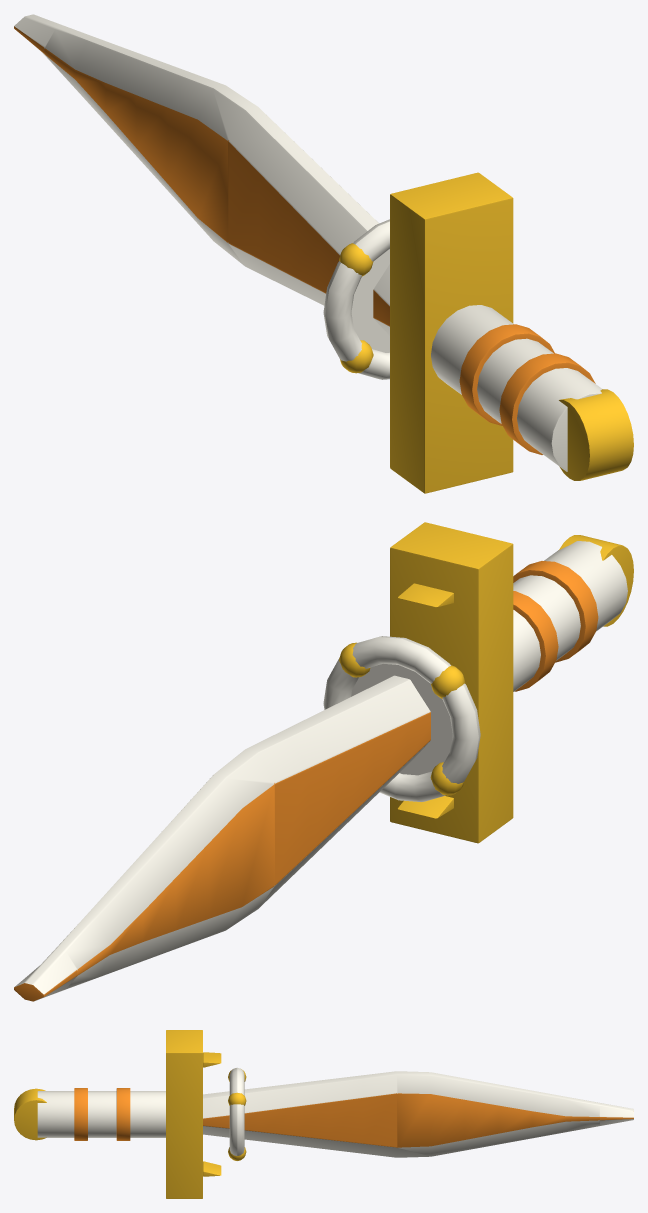
Rendered from Sword_CoronaShortsword.glb.
3 views of the same model, one above another, from view 1: azimuth 30°, elevation 25°; view 2: azimuth 150°, elevation 25°; view 3: azimuth 270°, elevation 25° (orthographic). The views are drawn at different scales.
Visible parts, largest first — view 1: Sword_CoronaShortsword; view 2: Sword_CoronaShortsword; view 3: Sword_CoronaShortsword.
Part boxes in pixels (x1=…): Sword_CoronaShortsword: x1=14, y1=14, x2=633, y2=493; Sword_CoronaShortsword: x1=14, y1=522, x2=633, y2=1001; Sword_CoronaShortsword: x1=14, y1=1030, x2=633, y2=1198.
Size of the model in its own units: 0.152 by 0.26 by 1.
Materials: 1 (1 with a texture image).
